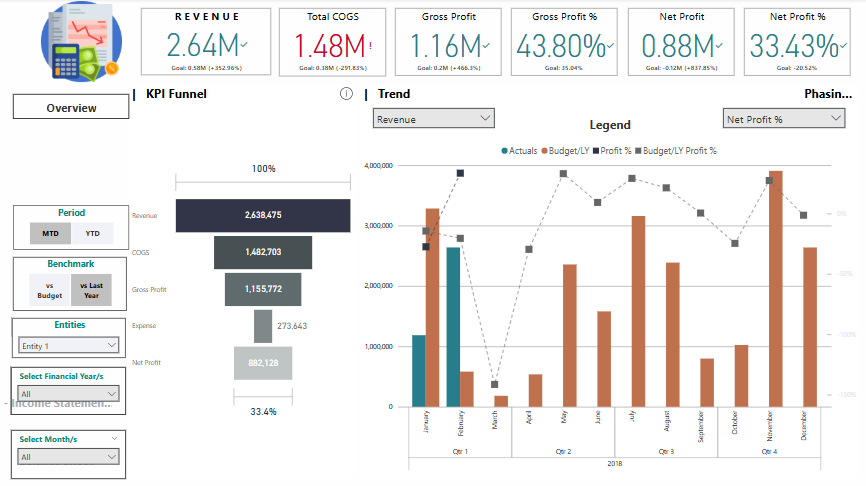

Layout of this report page (visuals, bound fields, positions):
{"tool":"powerbi","page":{"name":"Financial Overview","canvas":[1440,810],"ordinal":0},"visuals":[{"type":"pivotTable","fields":{"Columns":["Calender-Date.Date.Variation.Date Hierarchy.Year","Calender-Date.Date.Variation.Date Hierarchy.Month"],"Rows":["Balance Sheet.Category","Balance Sheet.Group","Balance Sheet.Sub-Group","Balance Sheet.Account"],"Values":["Sum(Balance Sheet.Amount)"]},"box":[234.7,155.4,1191.9,633.1],"z":0},{"type":"kpi","title":"Net Profit %","fields":{"TrendLine":["Date Table.Date"],"Goal":["Comparison.Target Net Profit %"],"Indicator":["Income Statement.Net Profit %"]},"box":[1232.6,16,176,112],"z":17000},{"type":"kpi","title":"Net Profit","fields":{"TrendLine":["Date Table.Date"],"Goal":["Comparison.Target Net Profit"],"Indicator":["Income Statement.Net Profit"]},"box":[1040.6,16,176,112],"z":18000},{"type":"kpi","title":"Gross Profit %","fields":{"TrendLine":["Date Table.Date"],"Goal":["Comparison.Target Gross Profit %"],"Indicator":["Income Statement.Gross Profit %"]},"box":[848.6,16,176,112],"z":19000},{"type":"kpi","title":"Gross Profit","fields":{"TrendLine":["Date Table.Date"],"Goal":["Comparison.Target Gross Profit"],"Indicator":["Income Statement.Gross Profit"]},"box":[656.6,16,176,112],"z":20000},{"type":"kpi","title":"Total COGS","fields":{"TrendLine":["Date Table.Date"],"Goal":["Comparison.Target COGS"],"Indicator":["Income Statement.COGS"]},"box":[464.6,16.1,177,112.6],"z":21000},{"type":"kpi","title":"R E V E N U E","fields":{"TrendLine":["Date Table.Date"],"Goal":["Comparison.Target Revenue"],"Indicator":["Income Statement.Revenue"]},"box":[236.4,16.5,214.9,110.8],"z":22000},{"type":"actionButton","box":[24.8,221.5,190.1,41.3],"z":25000},{"type":"actionButton","box":[24.8,281,190.1,41.3],"z":26000},{"type":"actionButton","box":[24.8,158.7,191.8,41.3],"z":28000},{"type":"slicer","fields":{"Values":["Calender-Date.Month"]},"box":[21.5,714.1,190.1,81],"z":30000},{"type":"slicer","fields":{"Values":["Calender-Date.Year"]},"box":[21.5,610,190.1,79.3],"z":31000},{"type":"slicer","title":"Entities","fields":{"Values":["Entity.Entity"]},"box":[23.1,529,188.4,66.1],"z":32000},{"type":"slicer","title":"Benchmark","fields":{"Values":["Benchmark.Benchmark"]},"box":[24.8,428.1,188.4,89.3],"z":33000},{"type":"slicer","title":"Period","fields":{"Values":["Period.Period"]},"box":[24.8,342.2,191.8,74.4],"z":34000},{"type":"image","box":[0,0,276.1,143.8],"z":37000}]}

Visuals, with their boxes in screenshot pixels (x1, y1, x2, y2), scaled from the page's 1440x810 canvas onto the 866x486 screenshot:
pivotTable - Calender-Date.Date.Variation.Date Hierarchy.Year x Calender-Date.Date.Variation.Date Hierarchy.Month: [left=141, top=93, right=858, bottom=473]
"Net Profit %" kpi: [left=741, top=10, right=847, bottom=77]
"Net Profit" kpi: [left=626, top=10, right=732, bottom=77]
"Gross Profit %" kpi: [left=510, top=10, right=616, bottom=77]
"Gross Profit" kpi: [left=395, top=10, right=501, bottom=77]
"Total COGS" kpi: [left=279, top=10, right=386, bottom=77]
"R E V E N U E" kpi: [left=142, top=10, right=271, bottom=76]
actionButton: [left=15, top=133, right=129, bottom=158]
actionButton: [left=15, top=169, right=129, bottom=193]
actionButton: [left=15, top=95, right=130, bottom=120]
slicer - Calender-Date.Month: [left=13, top=428, right=127, bottom=477]
slicer - Calender-Date.Year: [left=13, top=366, right=127, bottom=414]
"Entities" slicer: [left=14, top=317, right=127, bottom=357]
"Benchmark" slicer: [left=15, top=257, right=128, bottom=310]
"Period" slicer: [left=15, top=205, right=130, bottom=250]
image: [left=0, top=0, right=166, bottom=86]
